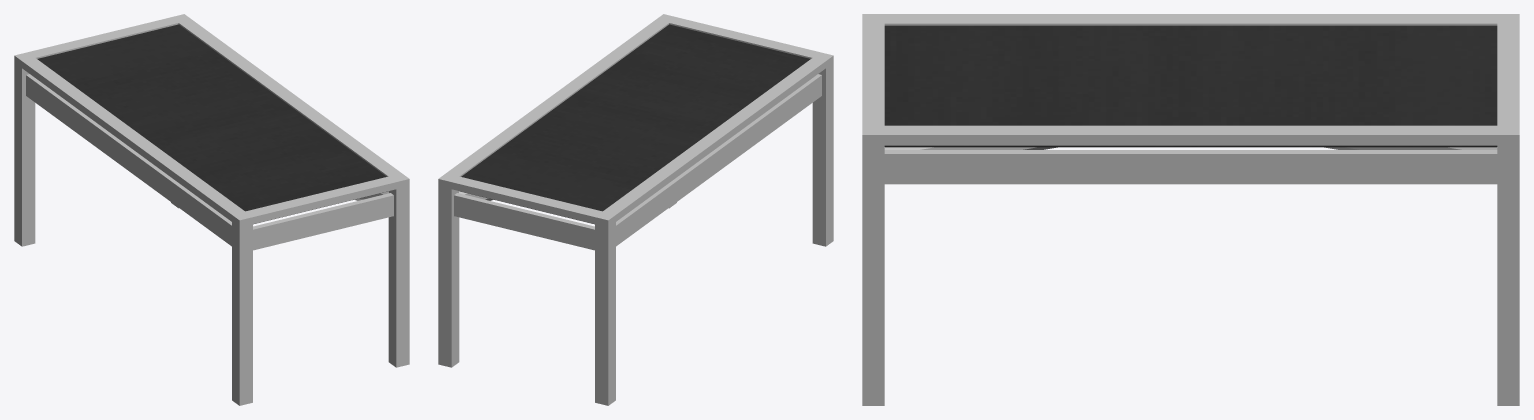
The model's file is metalTrayTable.fbx.
The picture shows the model from 3 angles, left to right: view 1: azimuth 30°, elevation 25°; view 2: azimuth 150°, elevation 25°; view 3: azimuth 270°, elevation 25°; orthographic projection. The views are drawn at different scales.
Parts seen in each view (by area): view 1: Cube; view 2: Cube; view 3: Cube.
Part boxes in pixels (bbox=[...]): Cube: bbox=[14, 14, 409, 405]; Cube: bbox=[438, 14, 833, 405]; Cube: bbox=[862, 14, 1519, 405].
Size of the model in its own units: 1754 by 1828 by 4023.
